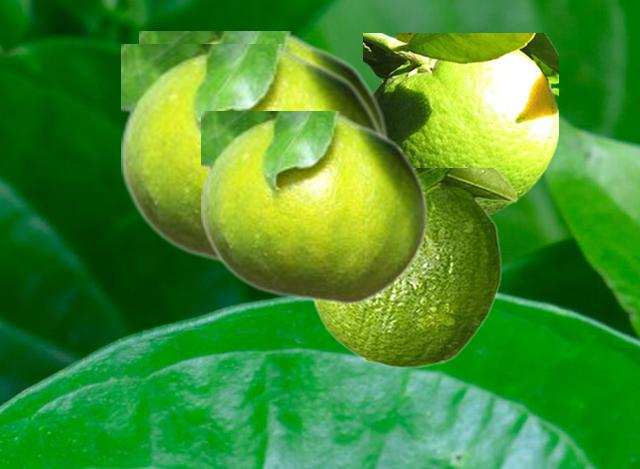dalandan: (121, 44, 386, 266), (201, 111, 428, 305), (310, 168, 517, 367), (363, 33, 557, 216), (139, 31, 388, 135)
